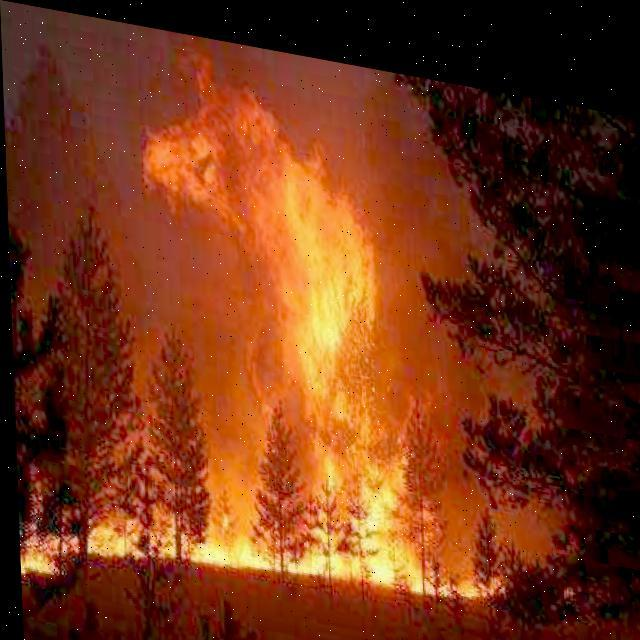Fire: (144, 62, 436, 507)
